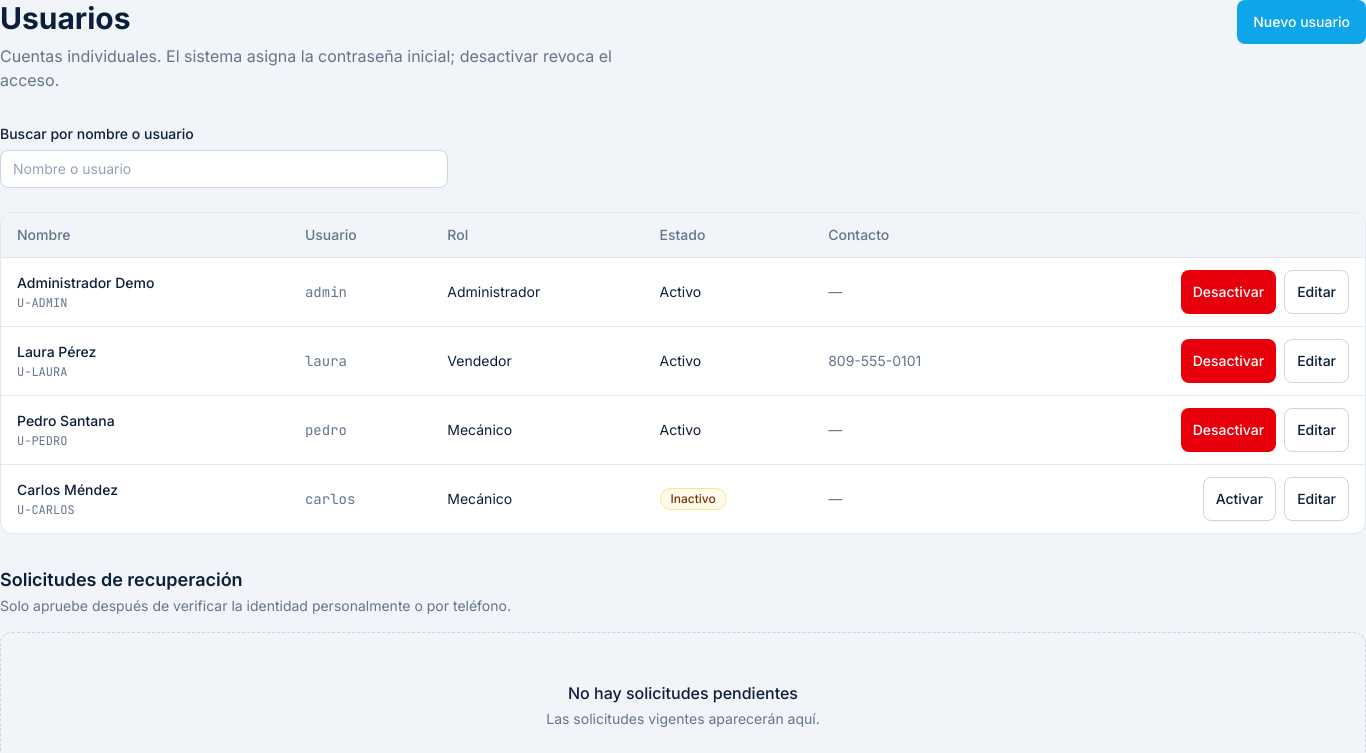
Test case: UsersPage › creates a user with the server-assigned initial password
Expected: the text "Laura Pérez" is shown, [17,343,96,360]
Click the button "Nuevo usuario" at (1302, 22), box [1237,0,1365,44]
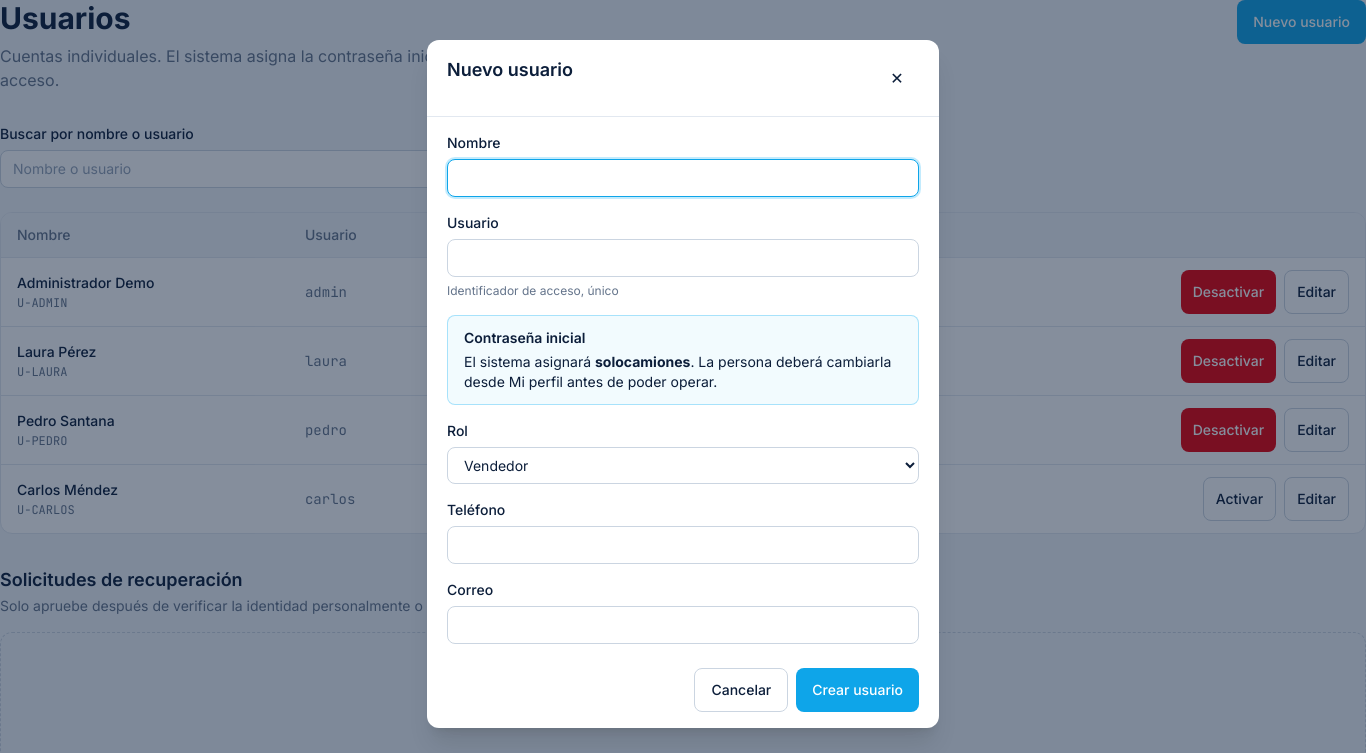
Type "María López" into the field labelled "Nombre" at (683, 178), box [447,159,919,197]
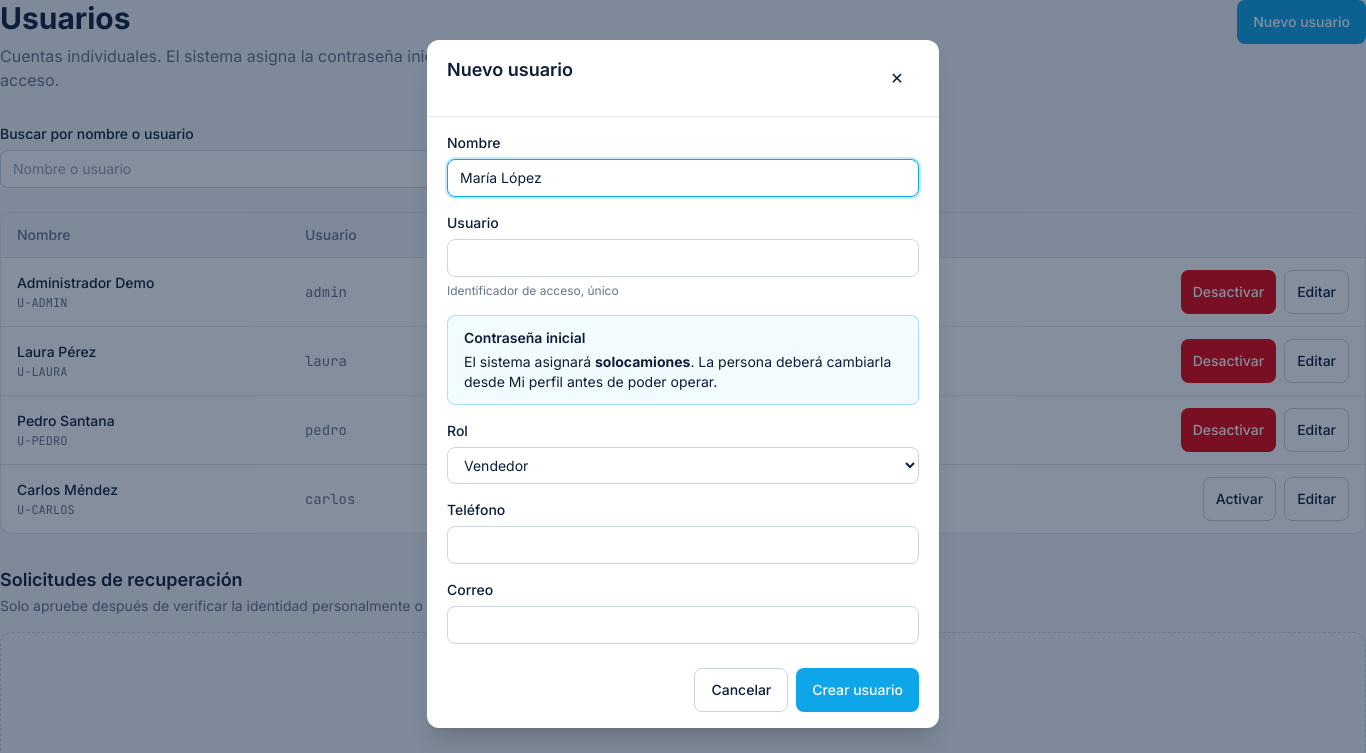
Type "maria" into the field labelled "Usuario" at (683, 258), box [447,239,919,277]
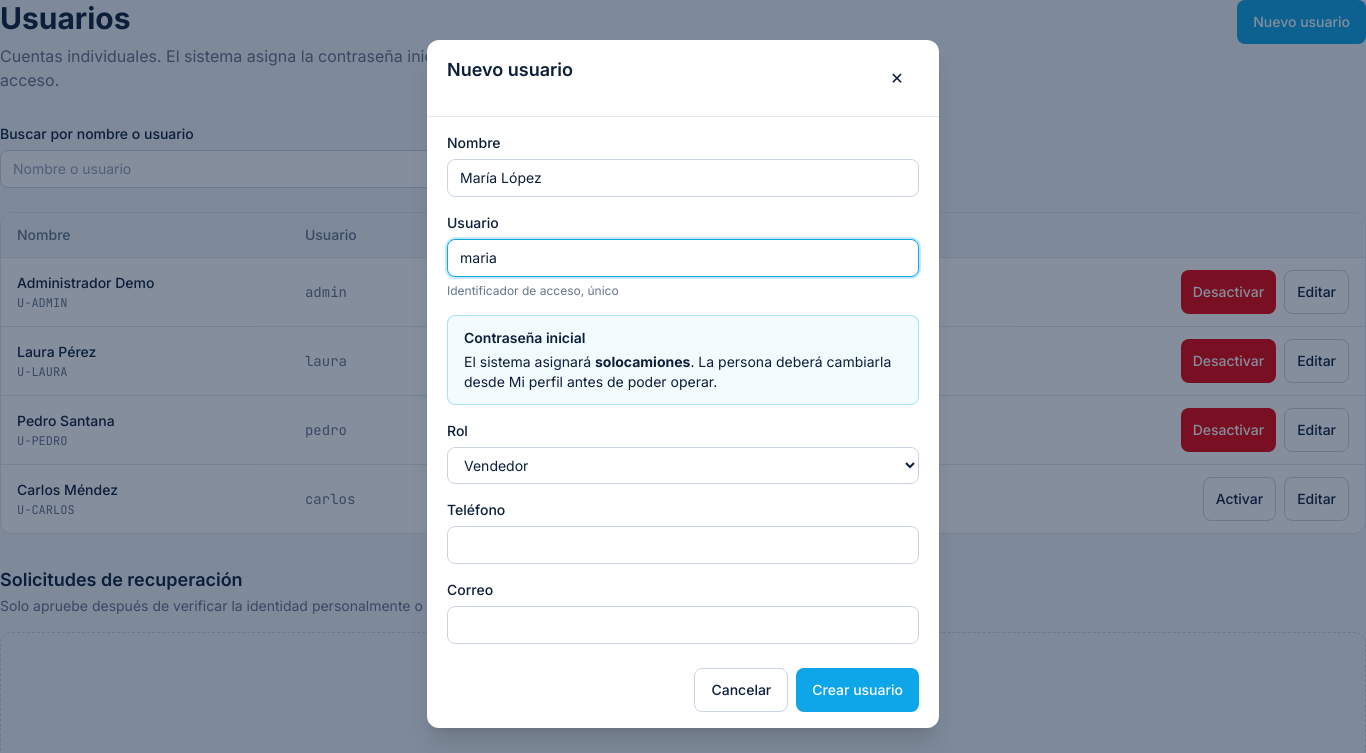
Expected: the text "solocamiones" is shown, [595,353,690,370]
Select "Vendedor" in the dropdown labelled "Rol" at (683, 466), box [447,447,919,484]
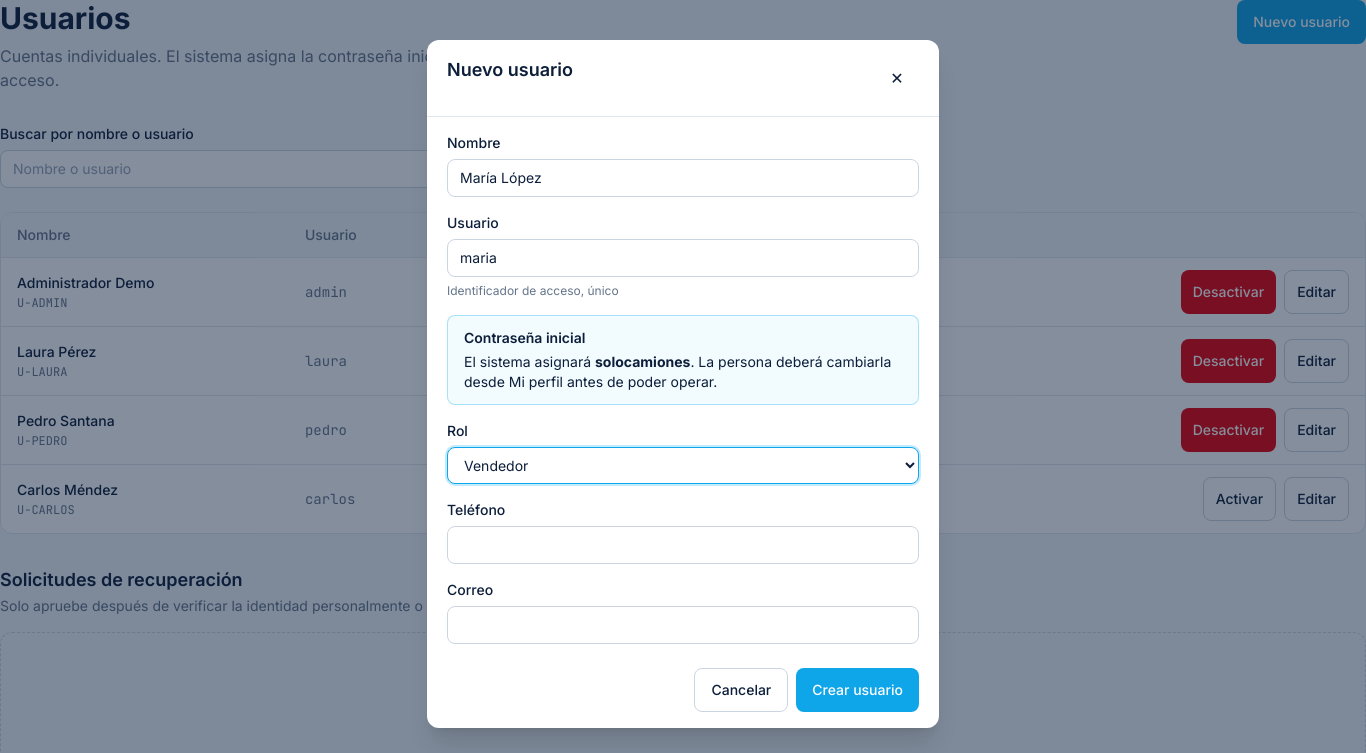
Click the button "Crear usuario" at (858, 690), box [796,668,919,712]
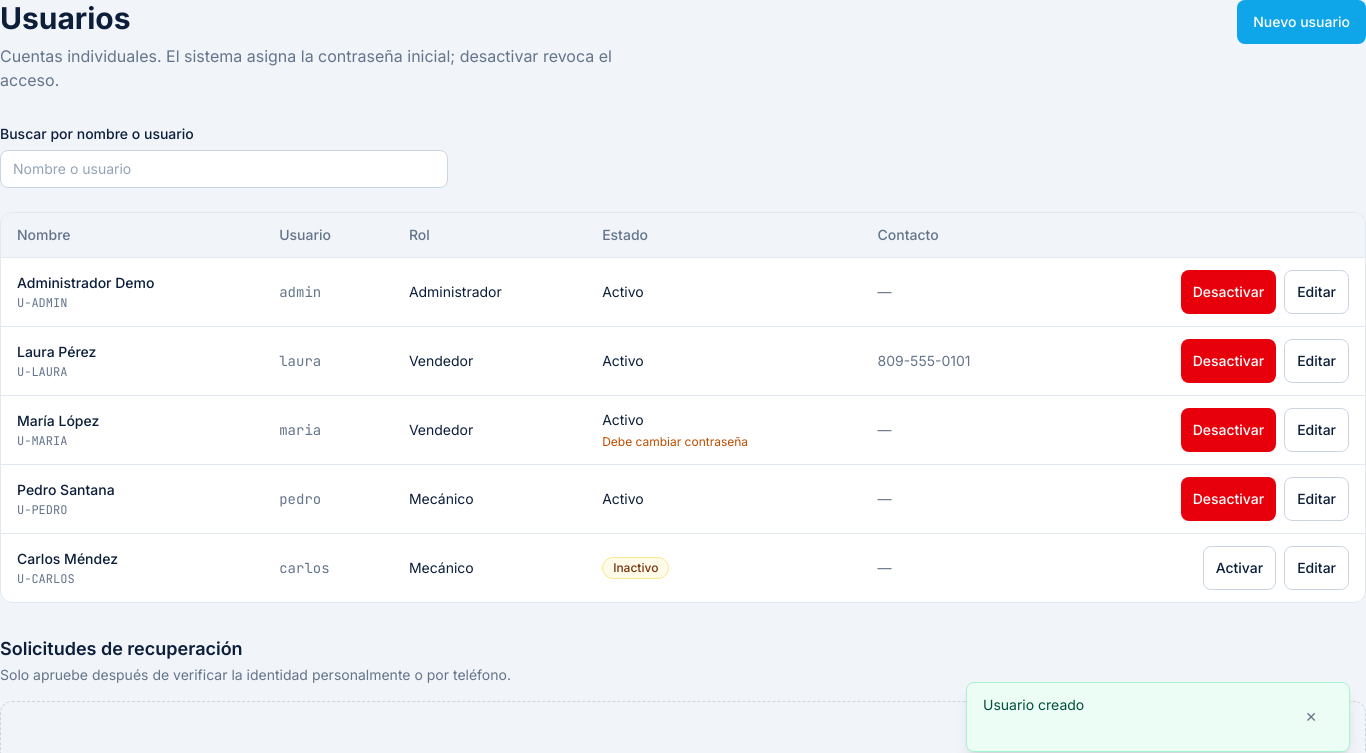
Expected: the text "Usuario creado" is shown, [983,696,1084,713]
Expected: the text "María López" is shown, [17,412,99,429]
